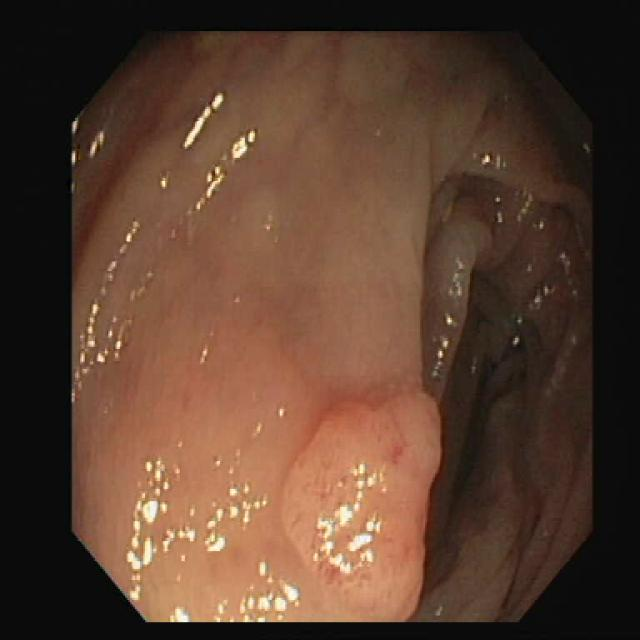tumor: (282, 393, 440, 618)
